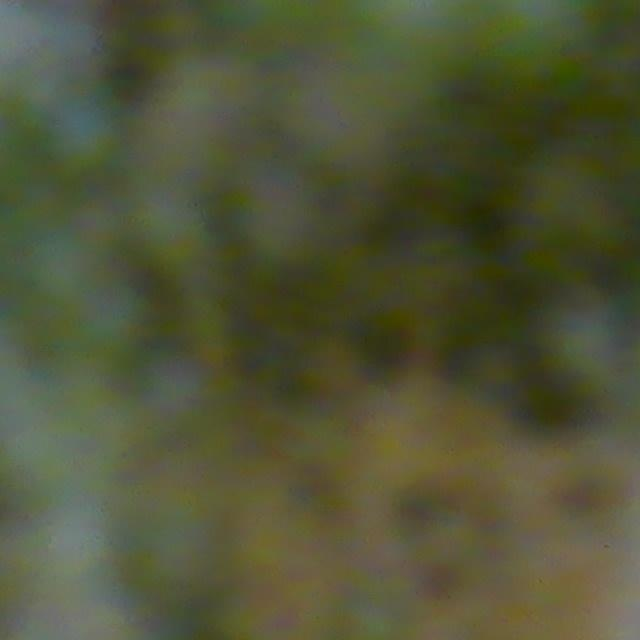SeaGrape: (370, 0, 484, 70), (44, 93, 127, 176)
